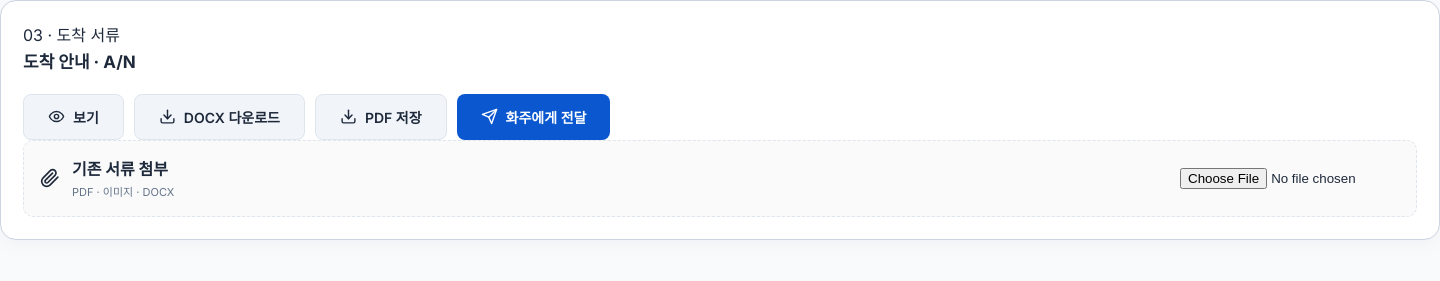
Test: 수입 포워더 도착안내서 › [화주에게 전달]을 누르면 전달하고, 전달한 뒤에는 다시 전달할 수 있다
Click the button "화주에게 전달".
click(534, 116)  # box [457, 94, 610, 140]
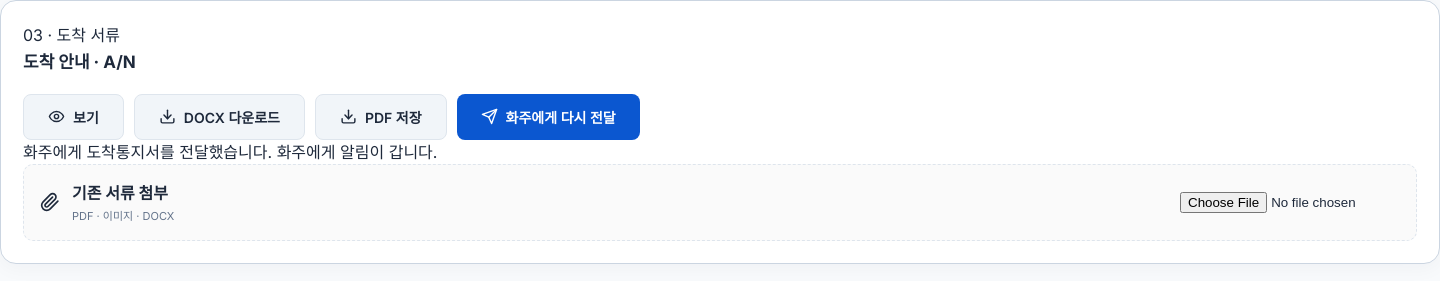
Check: the button "화주에게 다시 전달" is shown, box [457, 94, 640, 140]
Check: the text "화주에게 도착통지서를 전달했습니다" is shown, box [23, 142, 438, 162]
